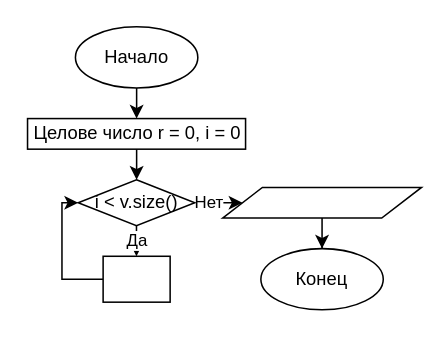
This 448x337 diagram has some shape labels left out. The centre of each missing label's shape, as x and y in pixels:
r += v[i] i++: the point at 136,278
Возвращение r: the point at 321,202
